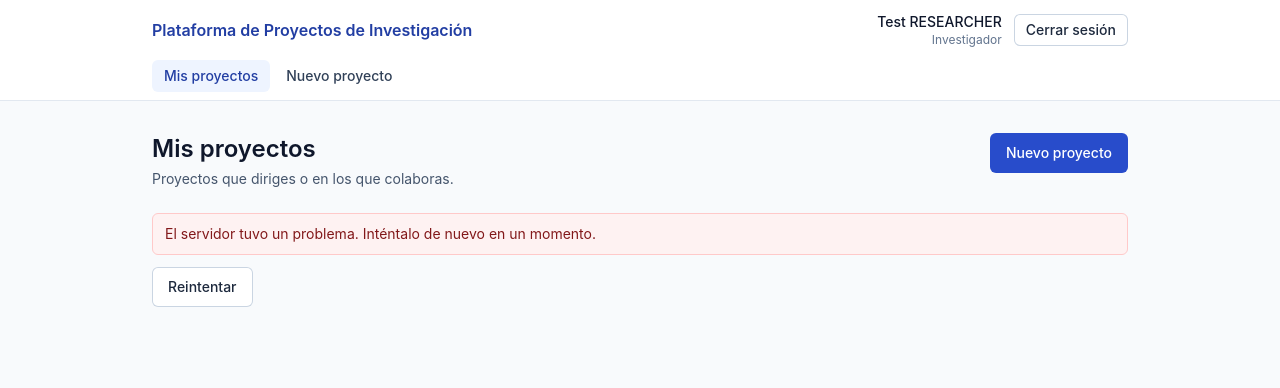
Test: role dashboards › shows an error state with retry when the list fails
Expected: the message shows "El servidor tuvo un problema", [165,225,596,242]
Click the button "Reintentar" at (202, 287), box [152,267,252,307]
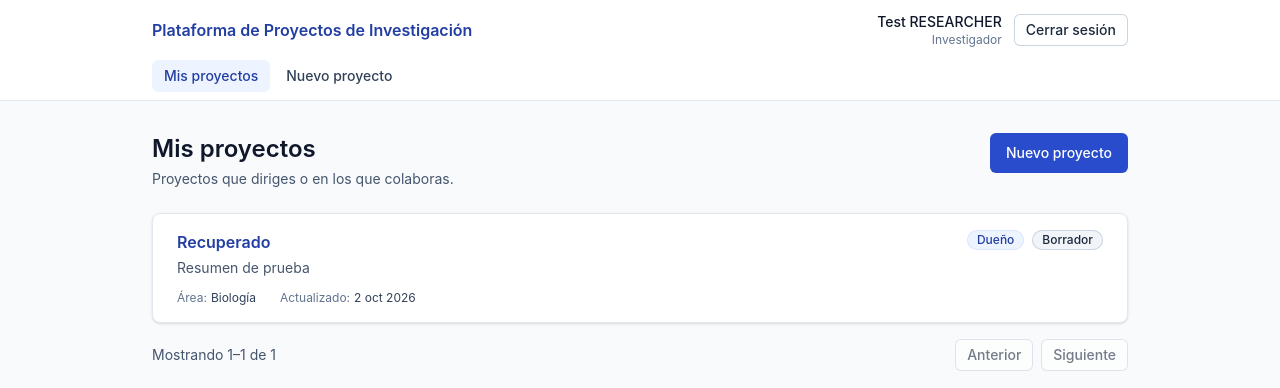
Now the link "Recuperado" is shown, box [177,232,270,252]
